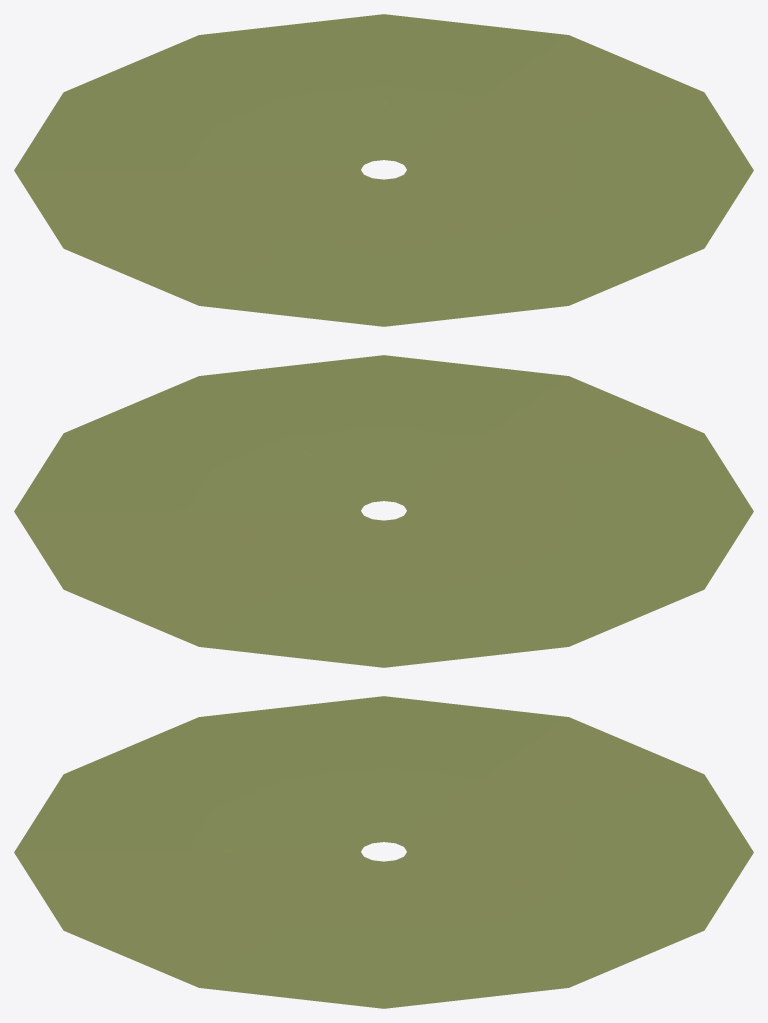
3 renders of one model, top to bottom at view 1: azimuth 30°, elevation 25°; view 2: azimuth 150°, elevation 25°; view 3: azimuth 270°, elevation 25°, orthographic.
Visible parts, largest first — view 1: mesh00; view 2: mesh00; view 3: mesh00.
Part boxes in pixels (<box>): mesh00: <box>14,14,753,326</box>; mesh00: <box>14,355,753,667</box>; mesh00: <box>14,696,753,1008</box>.
Size of the model in its own units: 980 by 2 by 980.
